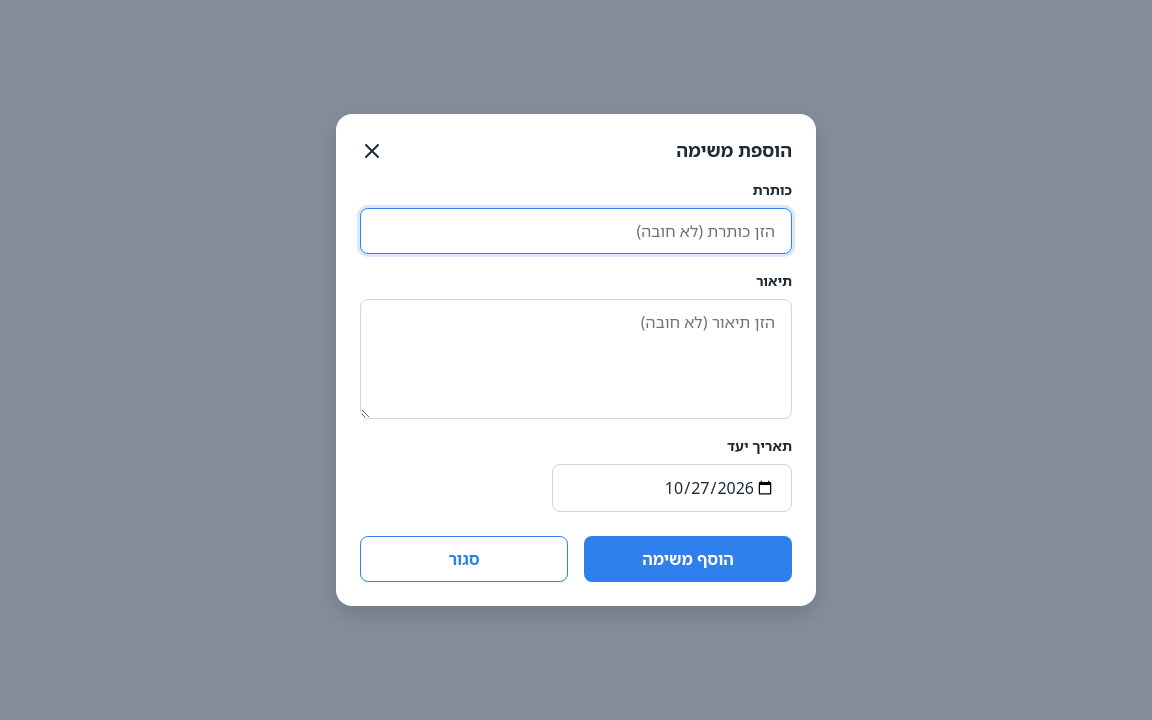
CreateTaskModal › shows the full-list rejection inside the form
In the field labelled "כותרת": (576, 231) [360, 208, 792, 254], type "חדשה"
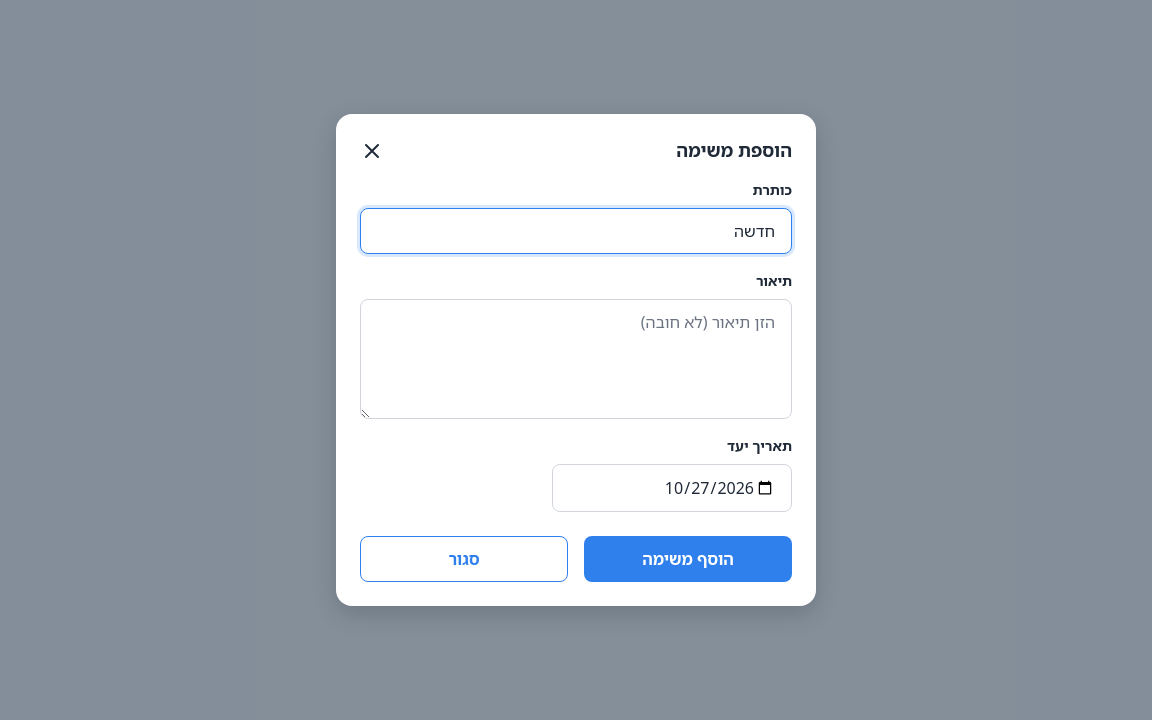
Click the button "הוסף משימה": (688, 559) [584, 536, 792, 582]
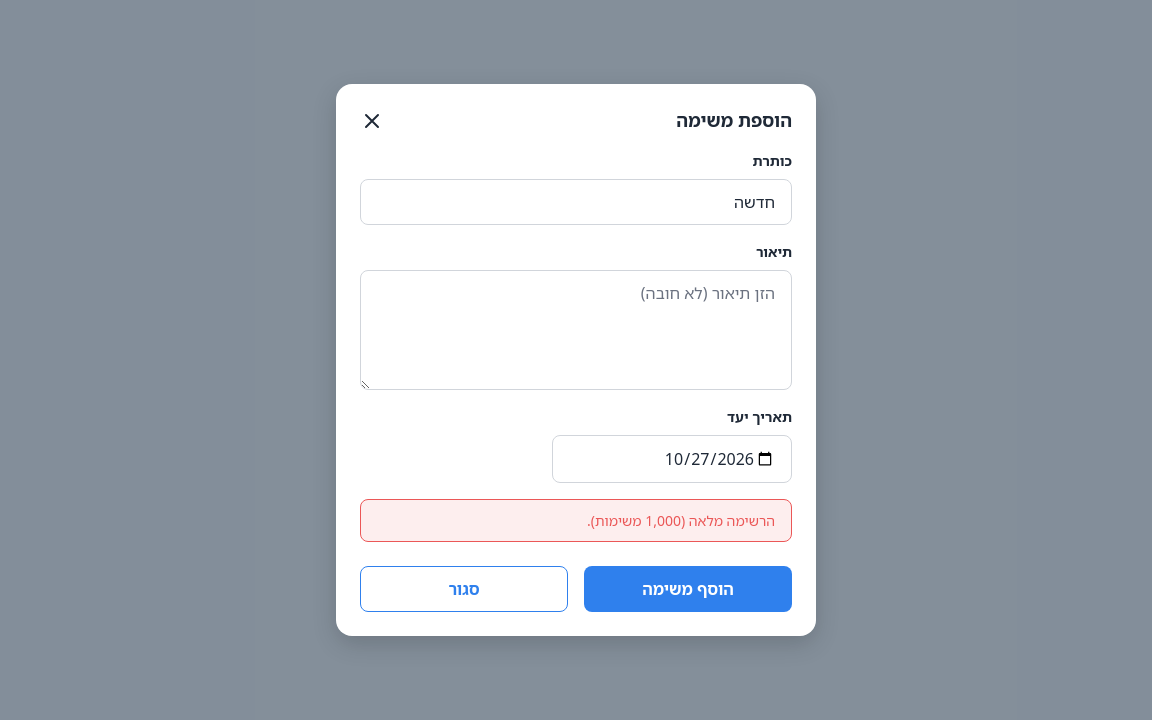
Check: the message shows "הרשימה מלאה", box [587, 511, 775, 530]
